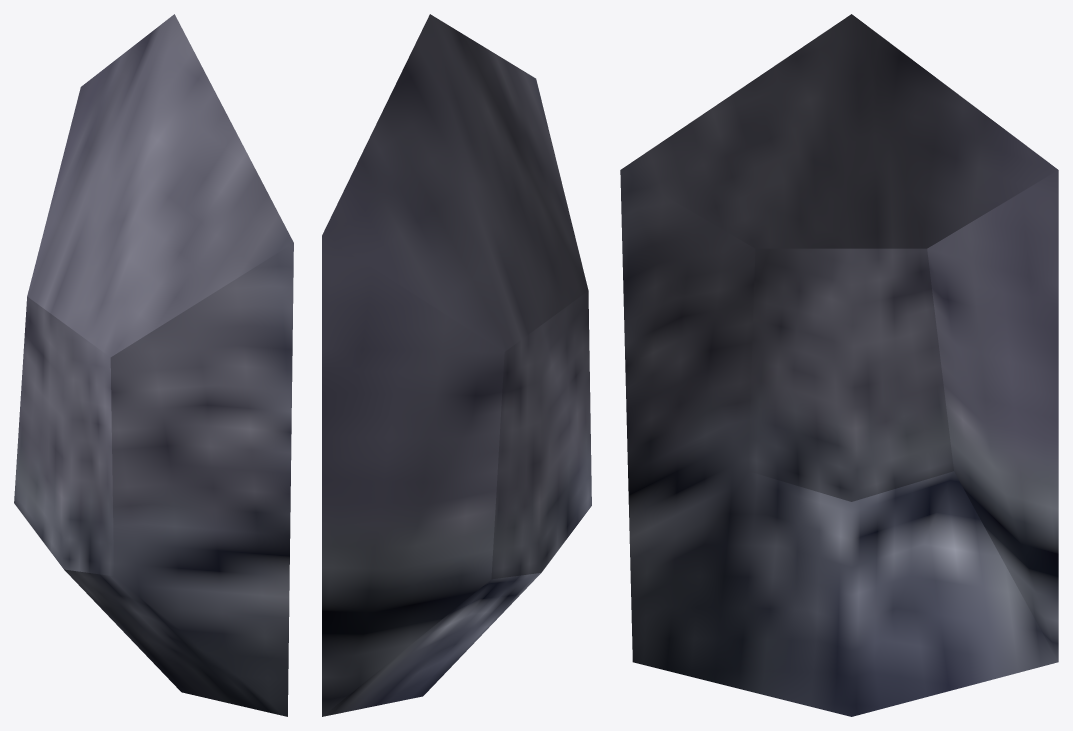
3 views of the same model, side by side, from view 1: azimuth 30°, elevation 25°; view 2: azimuth 150°, elevation 25°; view 3: azimuth 270°, elevation 25° (orthographic). The views are drawn at different scales.
Visible parts, largest first — view 1: rg03; view 2: rg03; view 3: rg03.
Boxes of the visible parts, bbox=[...] form: rg03: bbox=[14, 14, 293, 716]; rg03: bbox=[322, 14, 591, 716]; rg03: bbox=[620, 14, 1058, 716].
Bounding box in the file's own units: 2.5 × 13.81 × 7.84.
